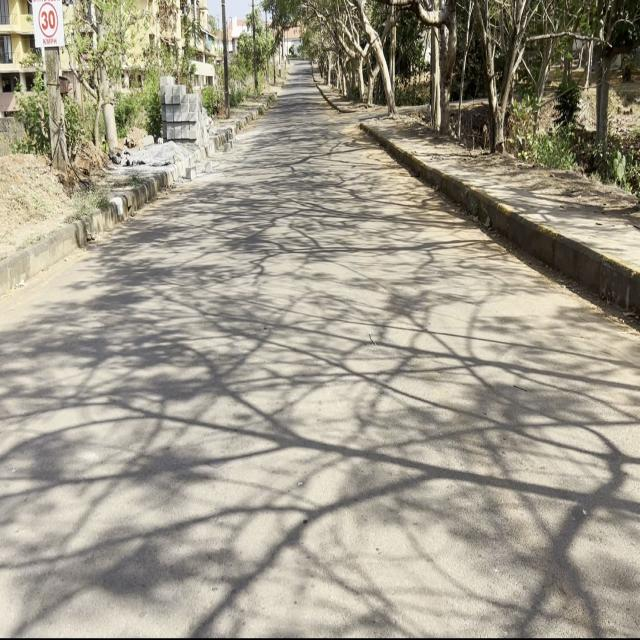Road: (0, 69, 640, 639)
